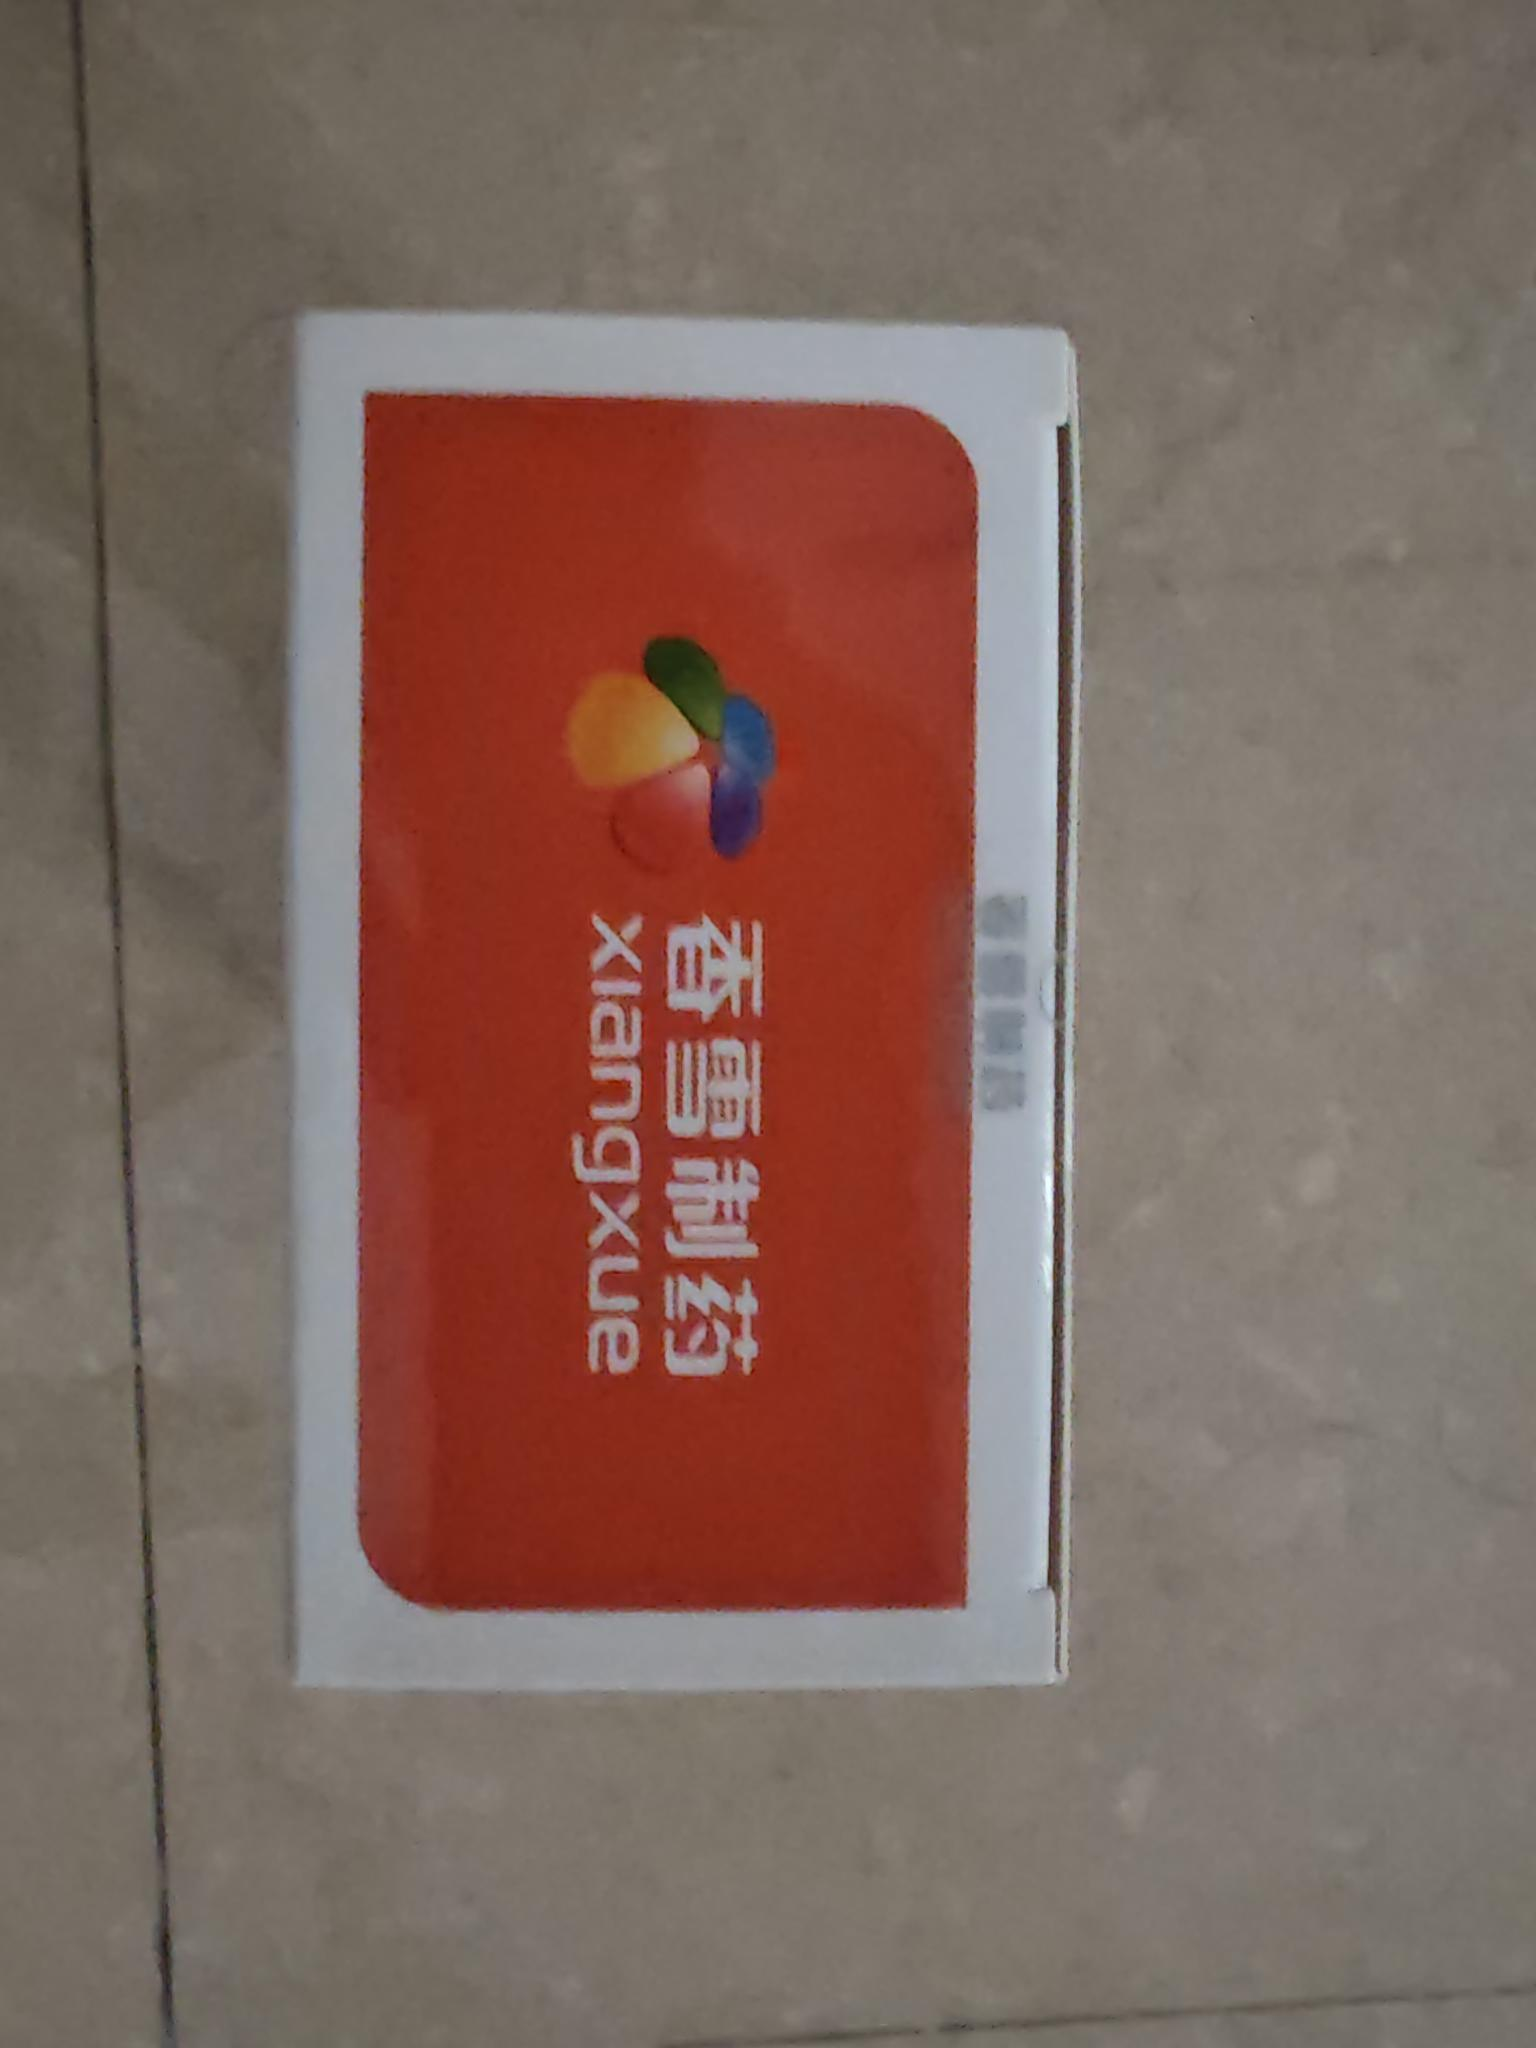Medicine1: (268, 260, 1120, 1751)
